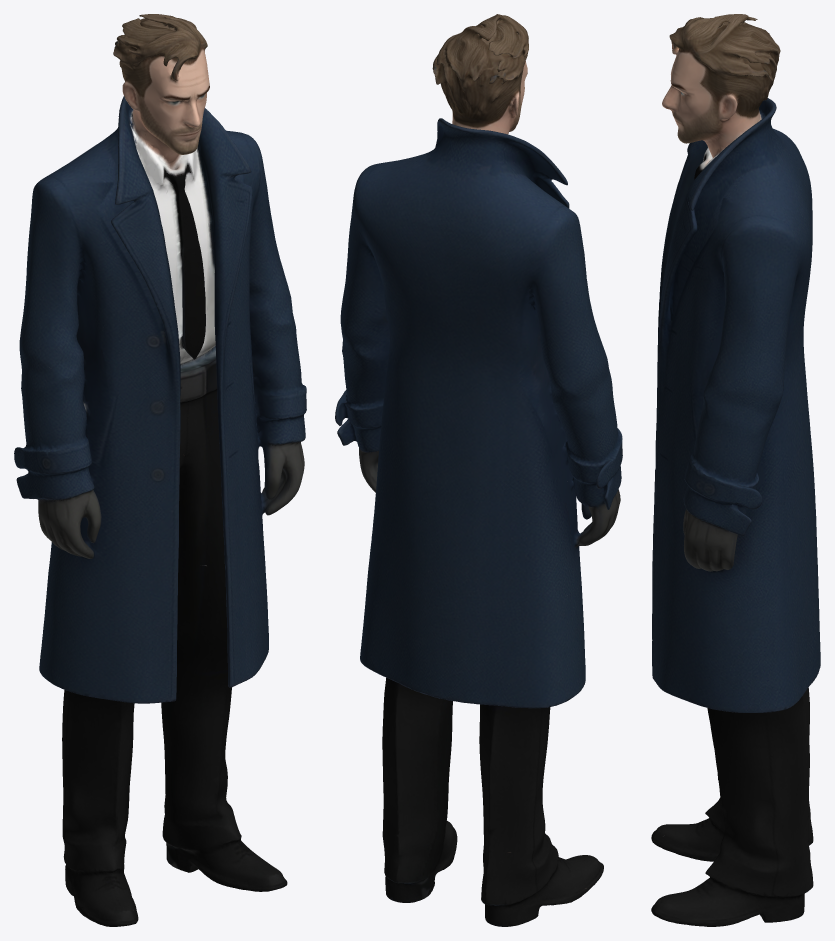
The model's file is player_game.glb.
3 views of the same model, side by side, from view 1: azimuth 30°, elevation 25°; view 2: azimuth 150°, elevation 25°; view 3: azimuth 270°, elevation 25° (orthographic).
Size of the model in its own units: 0.6246 by 1.9 by 0.3358.
1 material, 1 textured.
